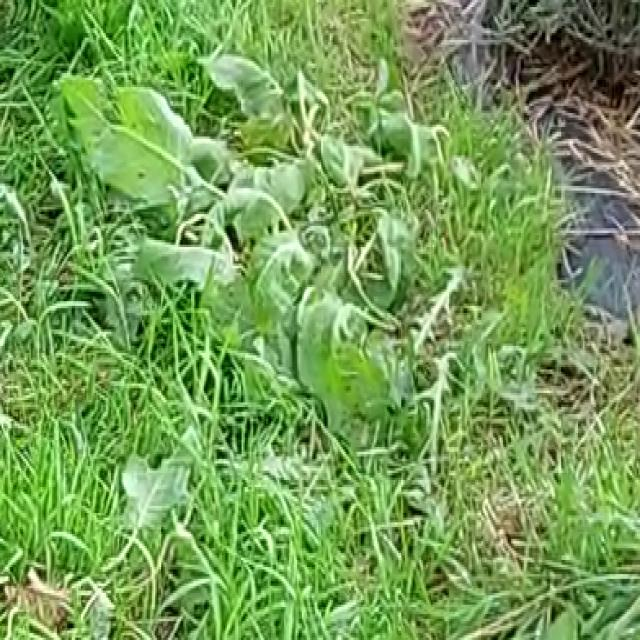organic waste: (60, 19, 338, 320), (204, 137, 433, 436)
